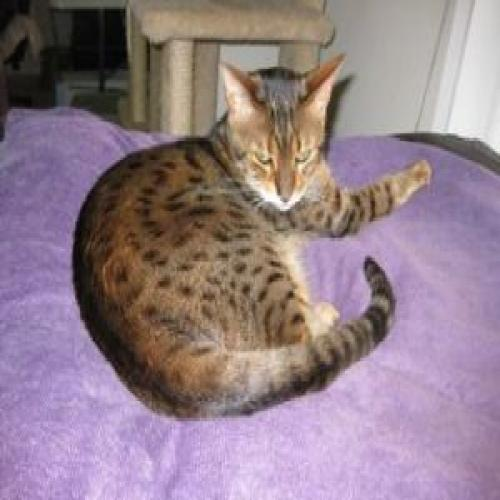cat-face: (220, 60, 344, 216)
